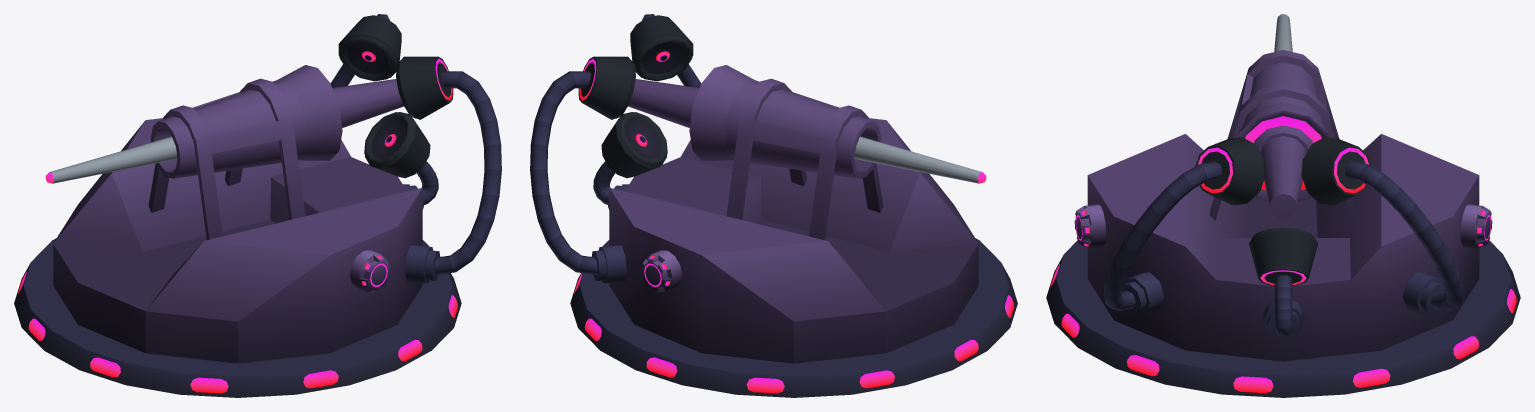
File: purple_03.fbx
3 views of the same model, side by side, from view 1: azimuth 30°, elevation 25°; view 2: azimuth 150°, elevation 25°; view 3: azimuth 270°, elevation 25° (orthographic). The views are drawn at different scales.
Visible parts, largest first — view 1: Circle.016, purple_03; view 2: Circle.016, purple_03; view 3: Circle.016, purple_03.
Boxes of the visible parts, <box> form: Circle.016: <box>45,14,501,363</box>; purple_03: <box>14,238,461,397</box>; Circle.016: <box>530,14,986,363</box>; purple_03: <box>570,238,1017,397</box>; Circle.016: <box>1074,14,1492,361</box>; purple_03: <box>1046,240,1520,397</box>.
Size of the model in its own units: 522 by 285 by 514.
